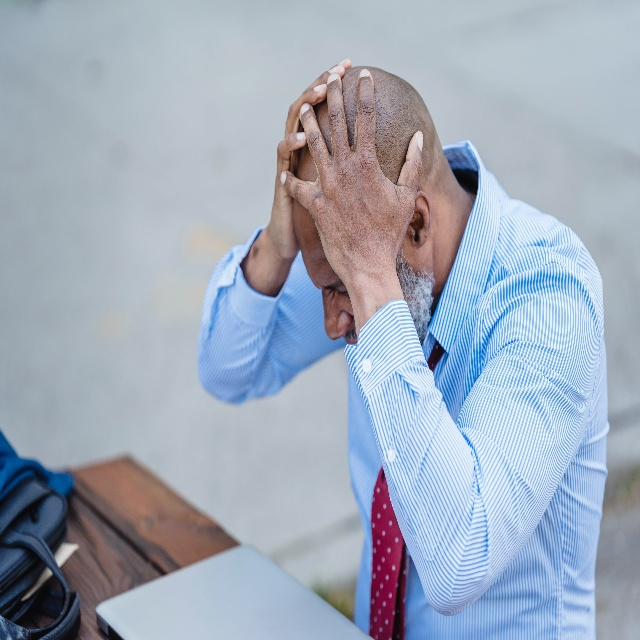Sin_guantes: (280, 71, 423, 306), (270, 56, 354, 259)
